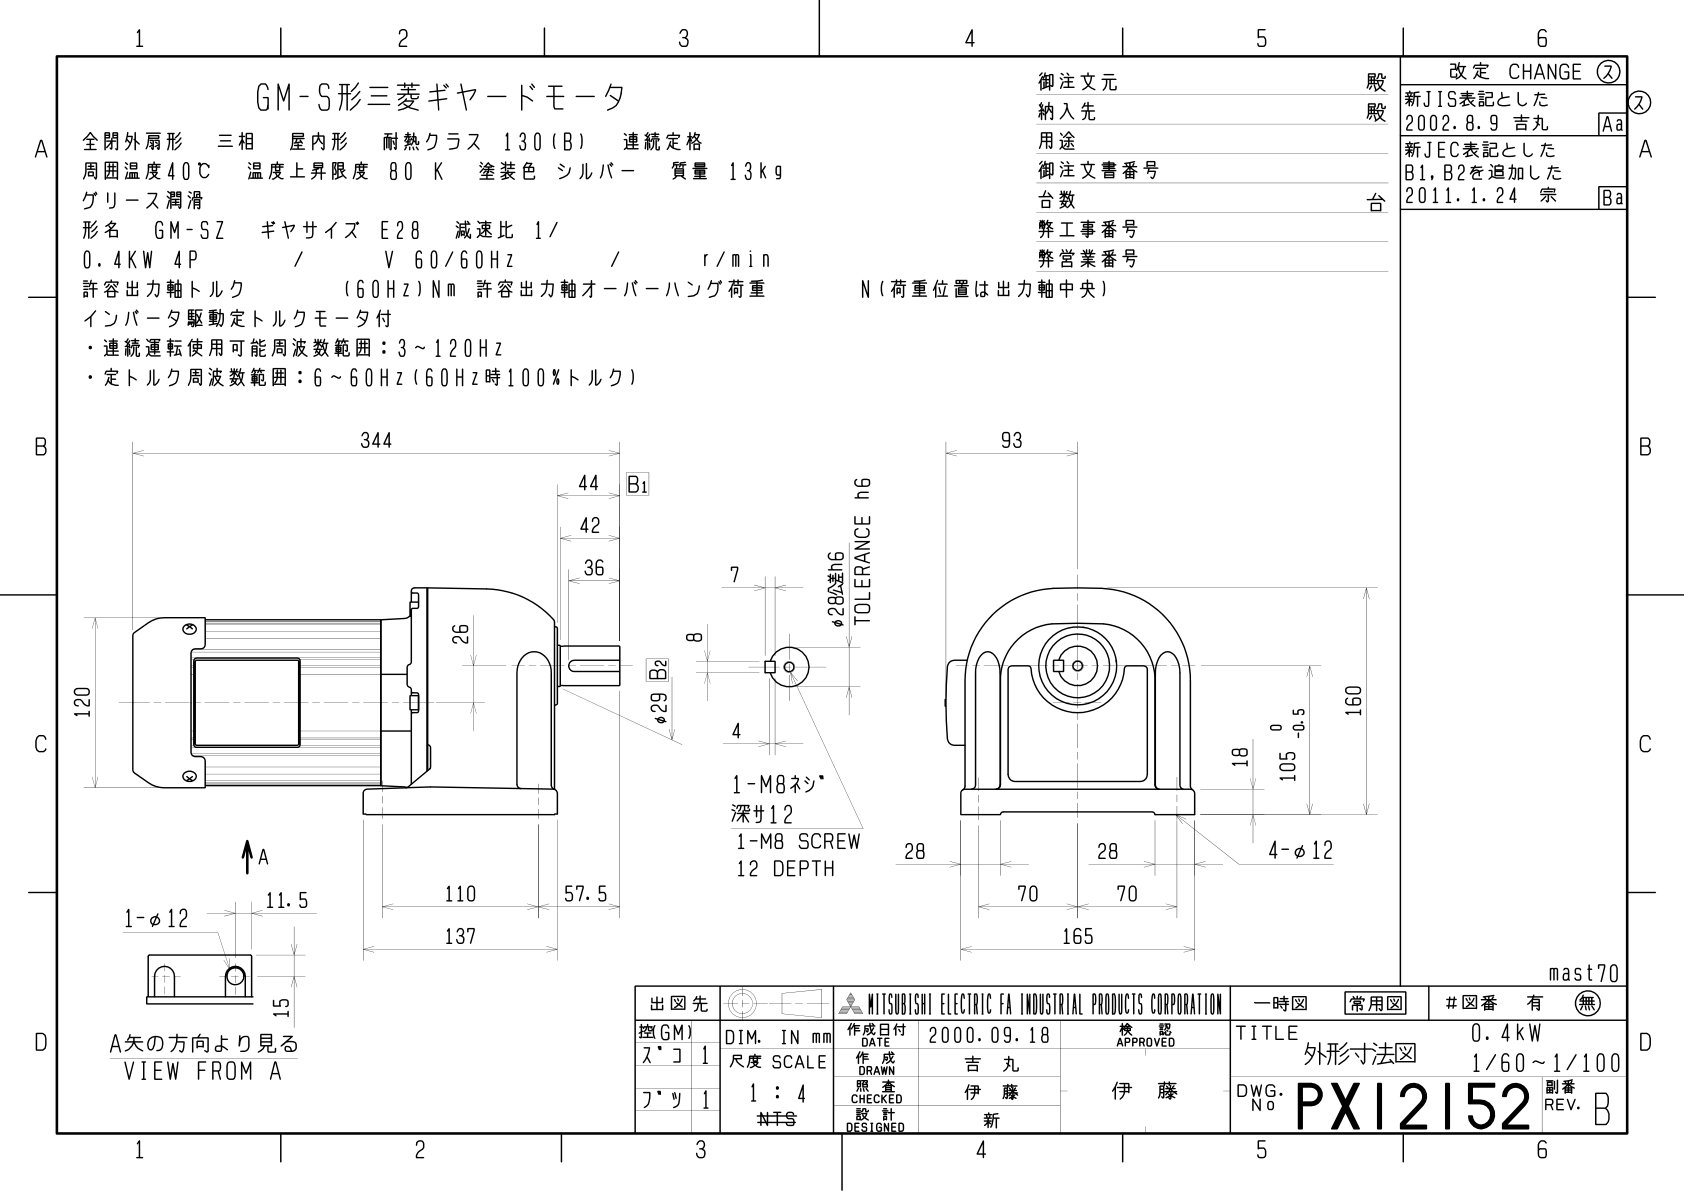GM_S_インバタ屋内＿三相_脚: (4, 5, 1684, 1191)
